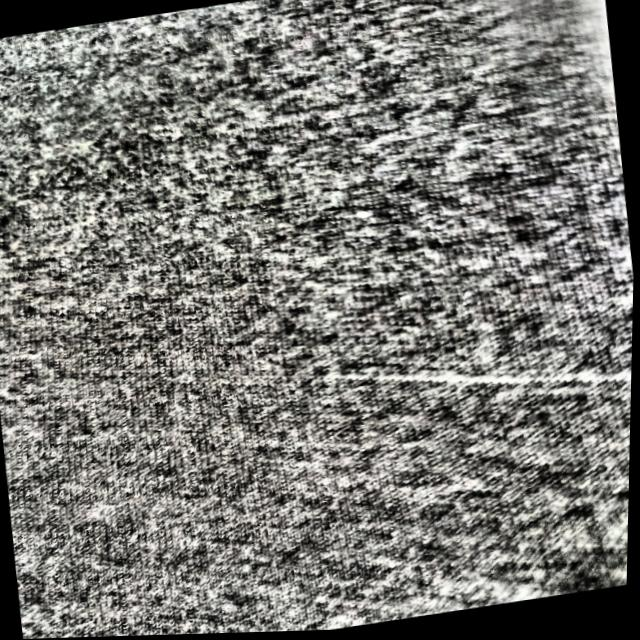Hole: (345, 201, 382, 231)
Stitch: (318, 314, 634, 453)
